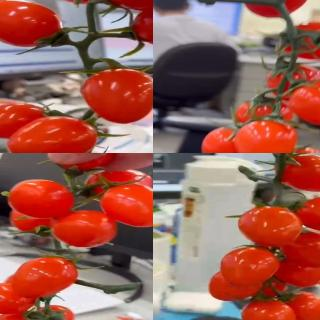tomato: (82, 69, 153, 125), (5, 115, 96, 153), (10, 256, 78, 300), (0, 0, 62, 45), (7, 181, 76, 221), (238, 206, 302, 248), (50, 209, 116, 247), (218, 246, 278, 287), (101, 183, 153, 228), (233, 120, 298, 153), (264, 62, 320, 100), (0, 102, 50, 140), (206, 270, 265, 302), (271, 249, 320, 286), (274, 153, 320, 192), (281, 21, 320, 60), (287, 82, 320, 128), (198, 123, 248, 153), (281, 230, 320, 267), (232, 95, 276, 126), (237, 0, 311, 18), (46, 153, 113, 172), (0, 281, 38, 314), (242, 299, 296, 320), (286, 290, 320, 320), (294, 196, 320, 232), (39, 305, 77, 320), (0, 312, 45, 320)
